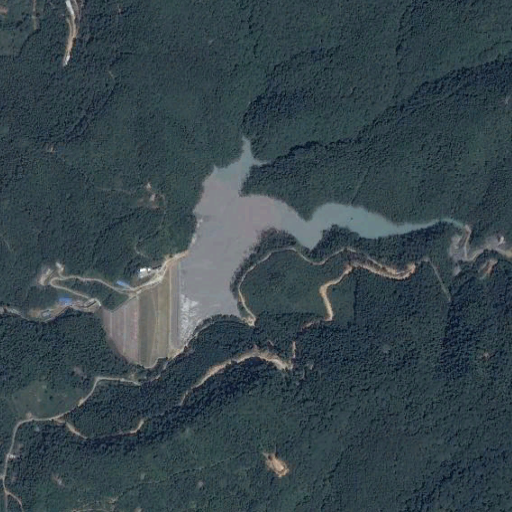tp: (98, 136, 465, 368)
